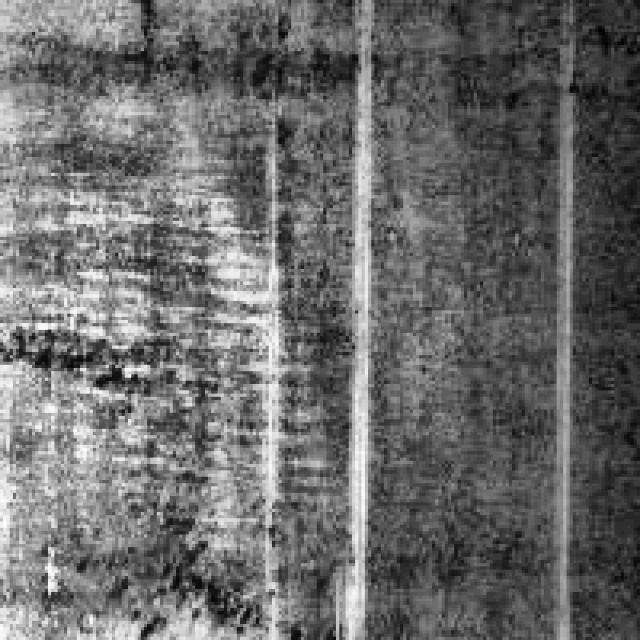Inclusion: (326, 45, 374, 628), (547, 102, 573, 630)
